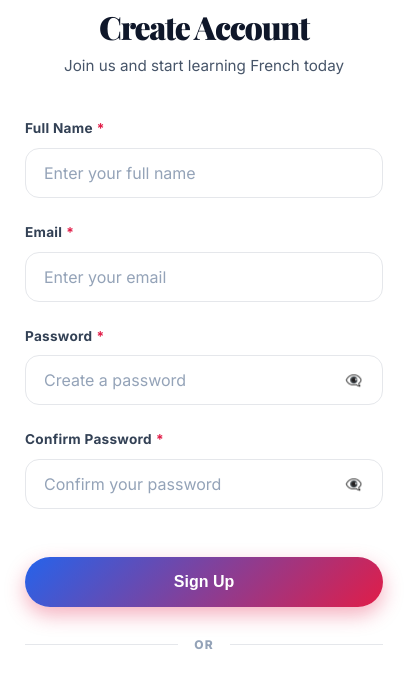
it: SignupForm › disables form during submission
This screenshot has width=409, height=686.
In the field labelled "Full Name*": (204,173) 25,148 -> 383,198, type "John Doe"
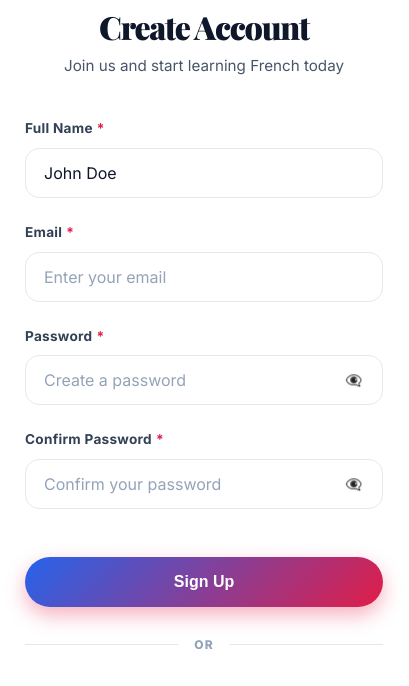
In the field labelled "Email*": (204,277) 25,252 -> 383,302, type "john@example.com"
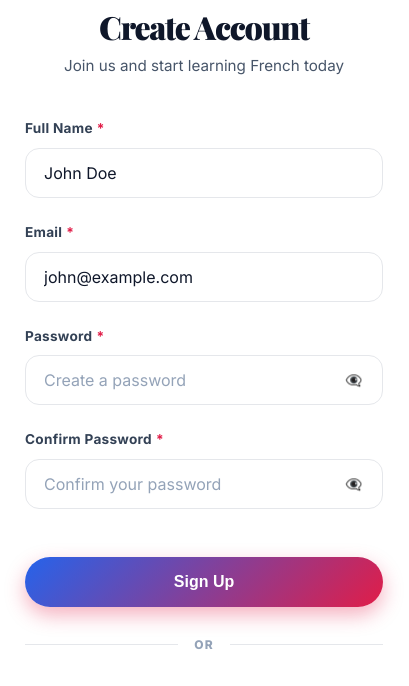
In the password field labelled "Password*": (204,380) 25,355 -> 383,405, type "Test1234"
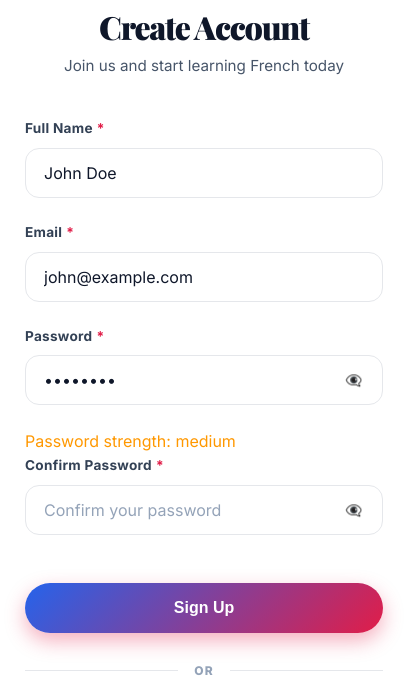
In the password field labelled "Confirm Password*": (204,510) 25,485 -> 383,535, type "Test1234"
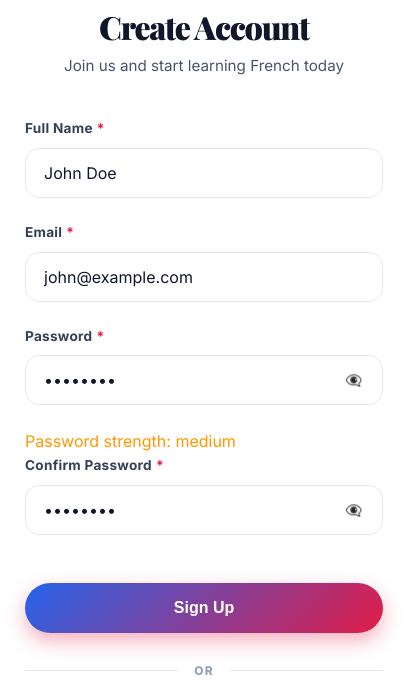
Click the button "Sign Up": (204,608) 25,583 -> 383,633
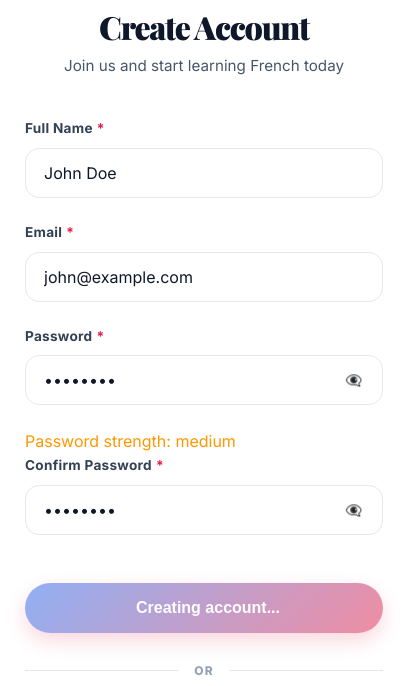
Result: the button named "sign up" is disabled at 25,583 -> 383,633
